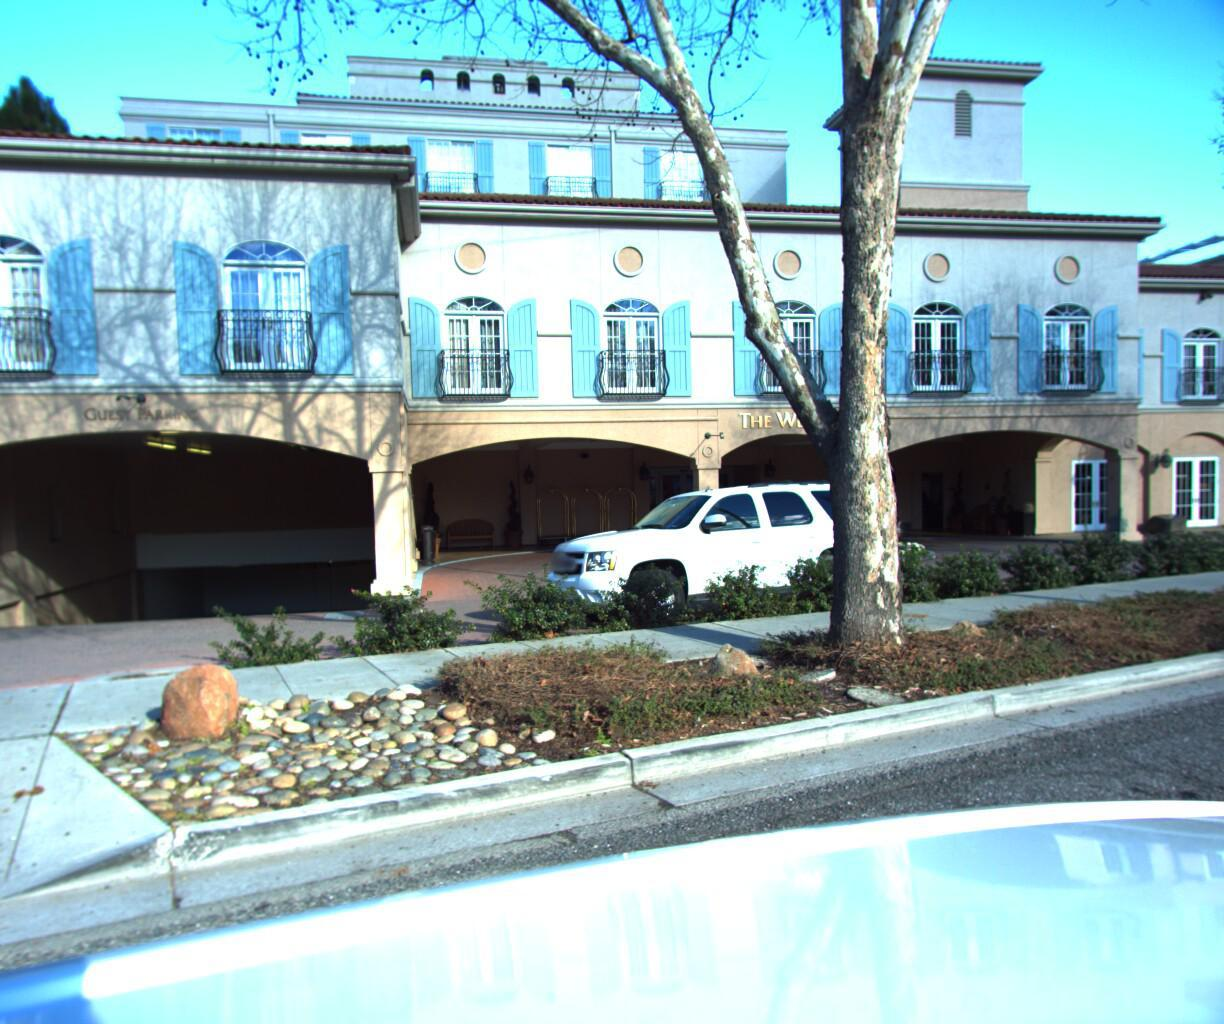car: (527, 466, 921, 647)
